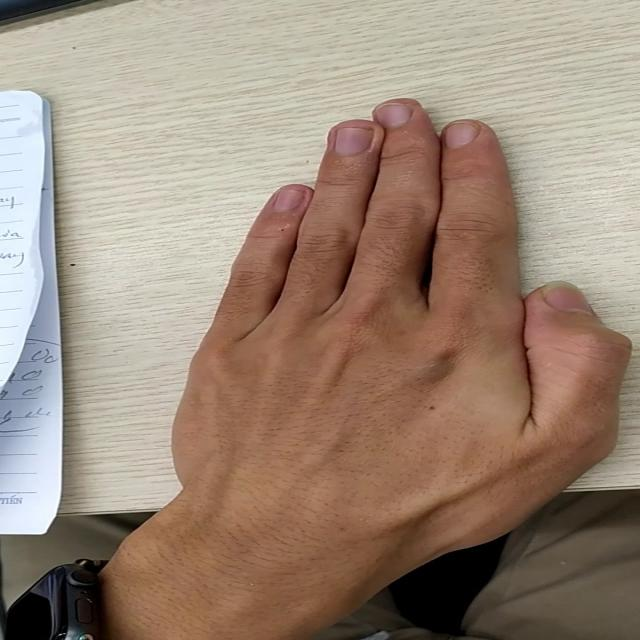hand: (217, 101, 631, 536)
